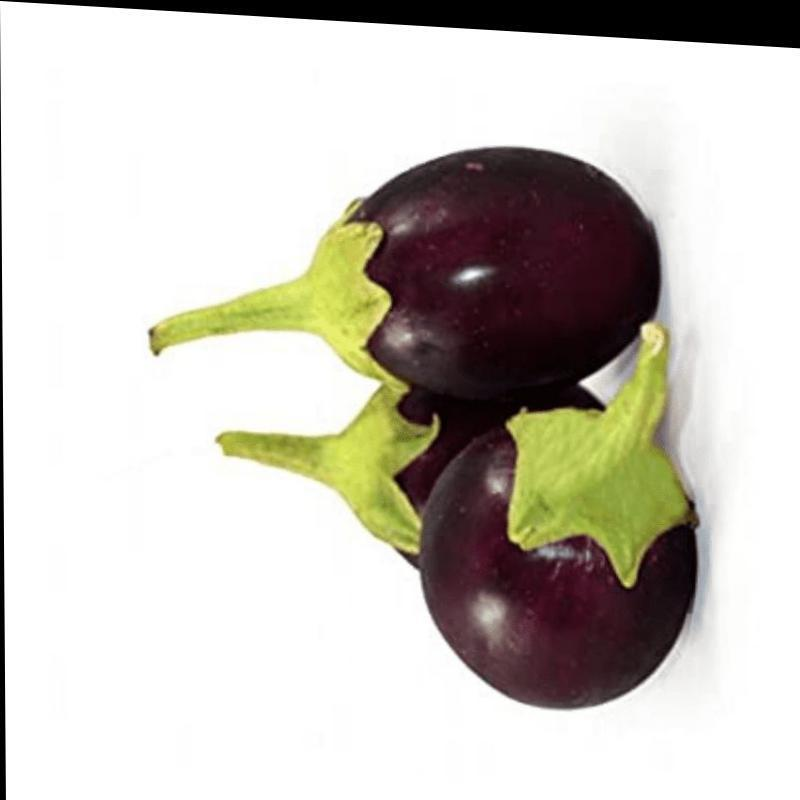eggplant: (160, 215, 704, 696), (376, 316, 719, 742), (240, 77, 670, 412)
